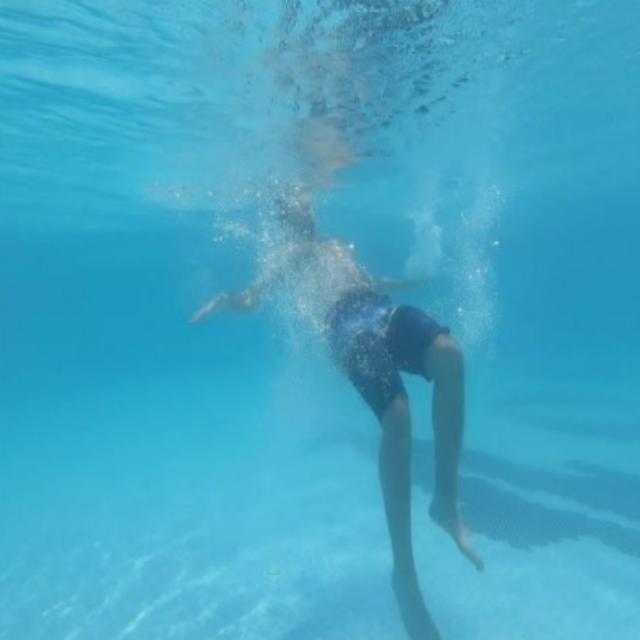Drowning: (186, 206, 487, 640)
